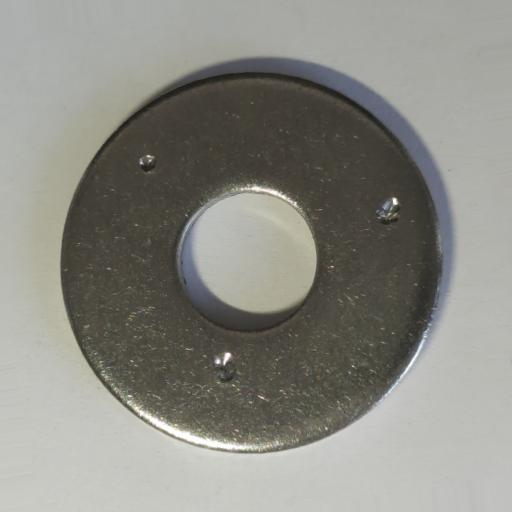circular_cavity: (213, 353, 237, 382), (377, 196, 402, 222), (138, 154, 157, 171)
